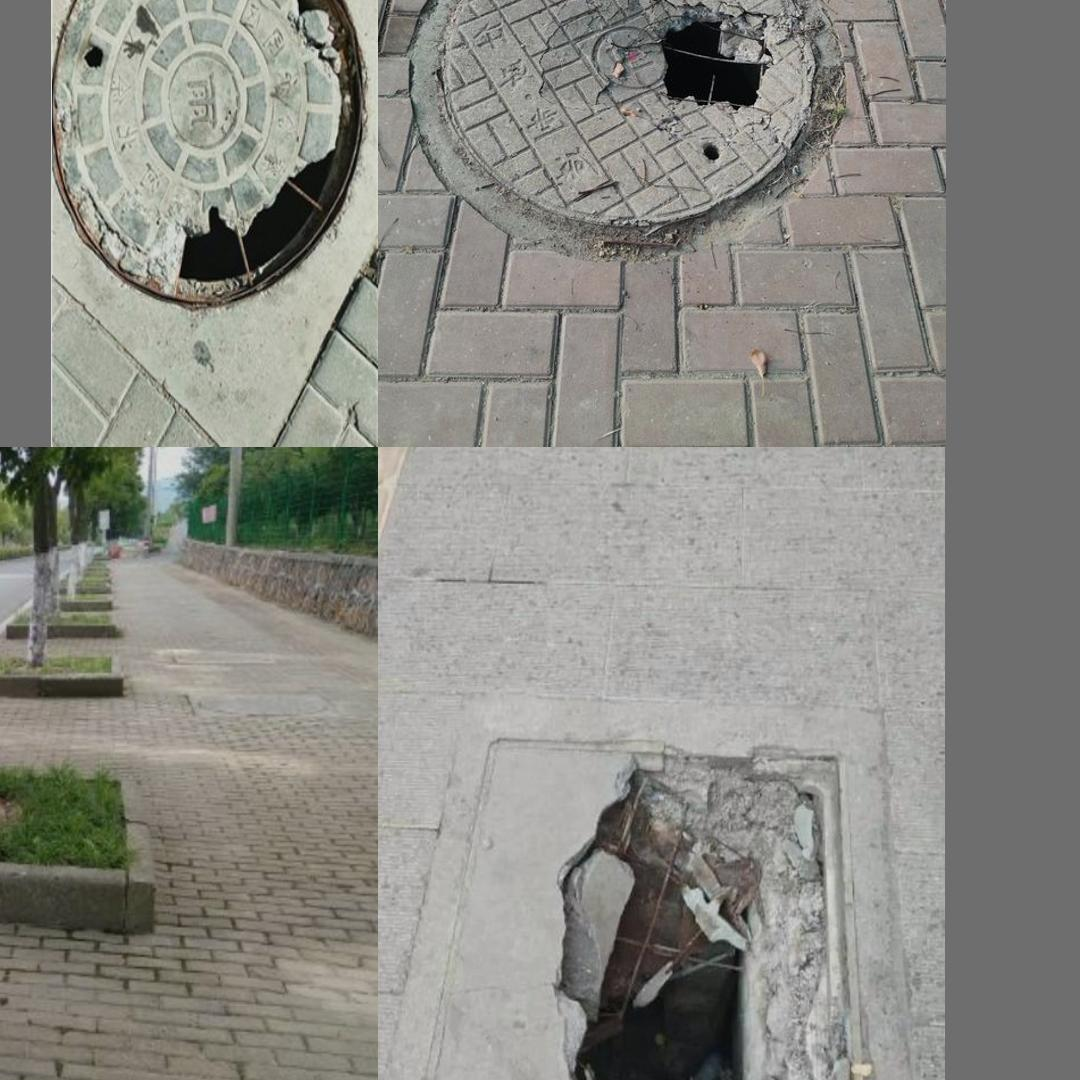broke: (404, 711, 888, 1080), (401, 0, 859, 263), (54, 0, 364, 299)
